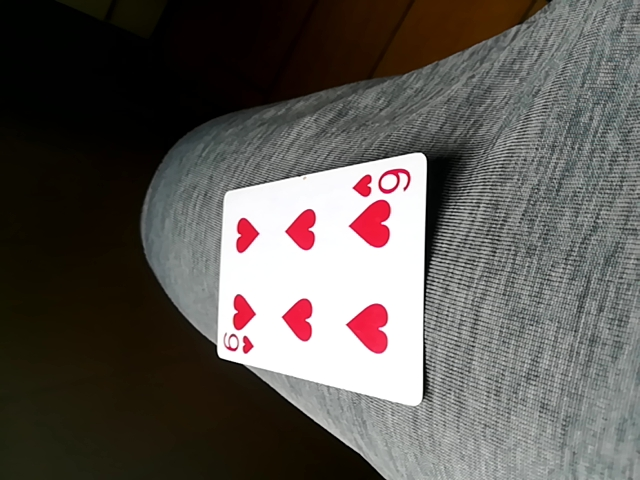hx 6: (212, 151, 427, 410)
